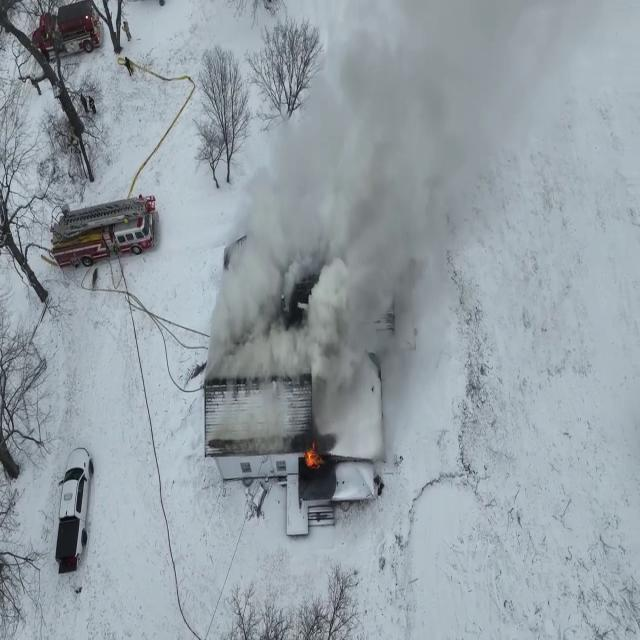Fire: (302, 438, 321, 472)
Smoke: (202, 3, 478, 448)
